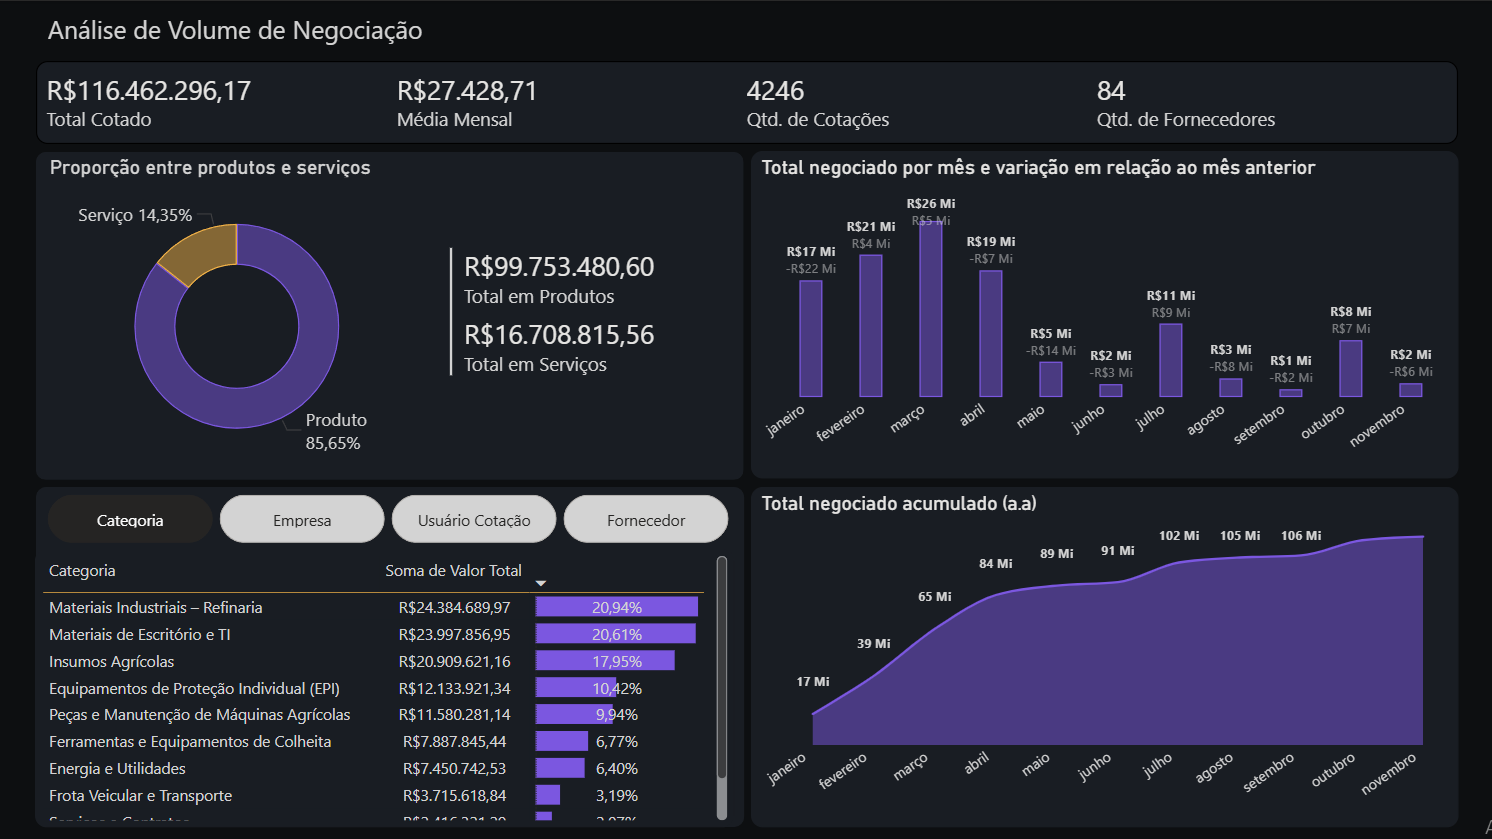

The dashboard page shown, as its layout file describes it:
{"tool":"powerbi","page":{"name":"Volume Negociado","canvas":[1280,720],"ordinal":0},"visuals":[{"type":"shape","box":[32.6,129,605,280.4],"z":0,"group":"g1"},{"type":"shape","box":[32.6,415.5,605.5,290.7],"z":0},{"type":"clusteredColumnChart","title":"Total negociado por mês e variação em relação ao mês anterior","fields":{"Category":["Calendario.Date.Variation.Hierarquia de datas.Mês"],"Y":["Sum(TabCotações.Valor Total)"]},"box":[643.7,128.6,604.6,280.4],"z":1000},{"type":"multiRowCard","fields":{"Values":["TabCotações.Soma de Valor Total para Produto","TabCotações.Soma de Valor Total para Serviço"]},"box":[381.4,206.1,223.6,130.4],"z":2000,"group":"g1"},{"type":"areaChart","title":"Total negociado acumulado (a.a)","fields":{"Category":["Calendario.Date.Variation.Hierarquia de datas.Mês"],"Y":["Aux_Medidas.Valor Negociado Acumulado (a.a)"]},"box":[643.7,415.5,604.6,290.7],"z":2000},{"type":"donutChart","title":"Proporção entre produtos e serviços","fields":{"Category":["TabCotações.Produto/Serviço ?"],"Y":["Sum(TabCotações.Valor Total)"]},"box":[39.5,131.6,329.8,273.9],"z":3000,"group":"g1"},{"type":"multiRowCard","fields":{"Values":["Sum(TabCotações.Valor Total)","Avg(Fato_Cotações.Valor Total)","Fato_Cotações.Cotação","Fato_Cotações.Fornecedor"]},"box":[32.6,51.2,1215.7,70.8],"z":3000},{"type":"advancedSlicerVisual","fields":{"Values":["Parâmetro.Parâmetro"]},"box":[37.3,417.4,592.5,51.2],"z":4000},{"type":"tableEx","title":"Distribuição do Volume Negociado por Agrupamento","fields":{"Values":["Fato_Cotações.Categoria","Sum(Fato_Cotações.Valor Total)","Divide(Sum(Fato_Cotações.Valor Total), ScopedEval(Sum(Fato_Cotações.Valor Total), []))"]},"box":[31.7,468.6,598.1,237.6],"z":5000},{"type":"group","id":"g1","title":"Grupo 1","box":[32.6,129,605,280.4],"z":6000},{"type":"textbox","box":[37.3,4.7,352.1,46.6],"z":7000}]}

Visuals, with their boxes in screenshot pixels (x1, y1, x2, y2), scaled from the page's 1280x720 canvas onto the 1492x839 screenshot:
shape: 38:150:743:477
shape: 38:484:744:823
"Total negociado por mês e variação em relação ao mês anterior" clusteredColumnChart: 750:150:1455:477
multiRowCard - TabCotações.Soma de Valor Total para Produto x TabCotações.Soma de Valor Total para Serviço: 445:240:705:392
"Total negociado acumulado (a.a)" areaChart: 750:484:1455:823
"Proporção entre produtos e serviços" donutChart: 46:153:430:473
multiRowCard - Sum(TabCotações.Valor Total) x Avg(Fato_Cotações.Valor Total): 38:60:1455:142
advancedSlicerVisual - Parâmetro.Parâmetro: 43:486:734:546
"Distribuição do Volume Negociado por Agrupamento" tableEx: 37:546:734:823
"Grupo 1" group: 38:150:743:477
textbox: 43:5:454:60
